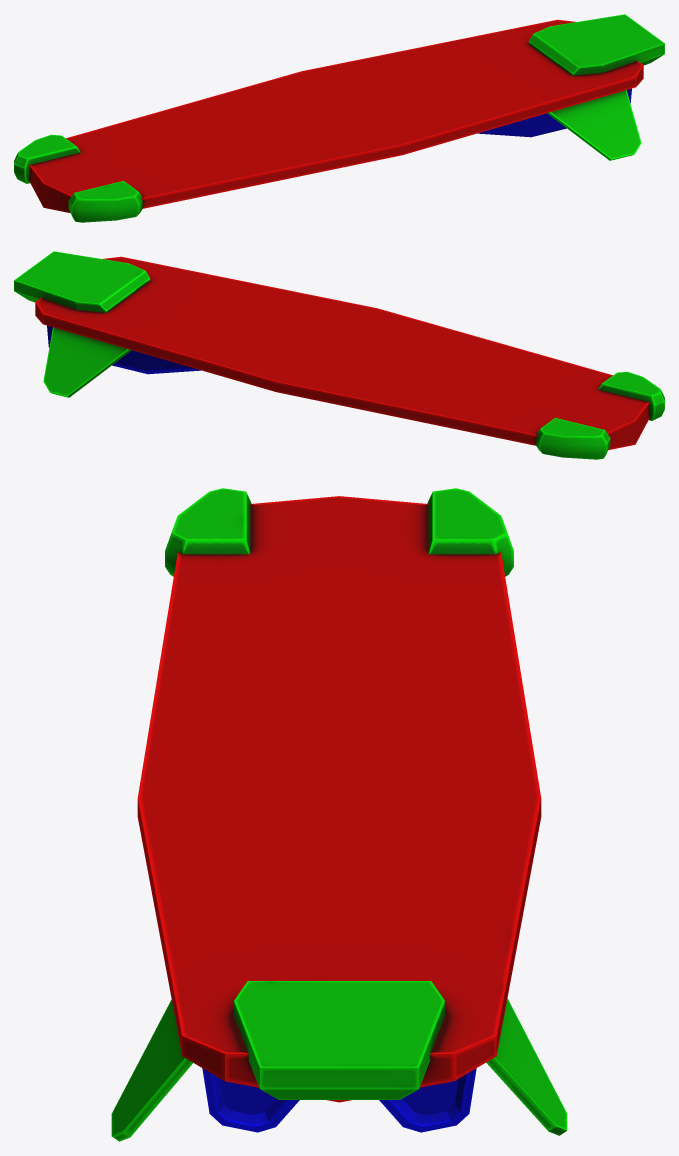
The model's file is stormcellboard.glb.
3 views of the same model, one above another, from view 1: azimuth 30°, elevation 25°; view 2: azimuth 150°, elevation 25°; view 3: azimuth 270°, elevation 25° (orthographic). The views are drawn at different scales.
Parts seen in each view (by area): view 1: Cube.006; view 2: Cube.006; view 3: Cube.006.
Boxes of the visible parts, left/top/right/bottom form: Cube.006: left=14, top=14, right=664, bottom=222; Cube.006: left=14, top=251, right=664, bottom=459; Cube.006: left=111, top=488, right=567, bottom=1141.
Size of the model in its own units: 4.05 by 0.4483 by 1.33.
1 material, 1 textured.
